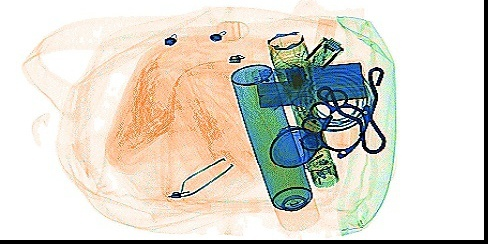powerbank: (251, 59, 367, 109)
pressure: (229, 61, 322, 234)
slingshot: (315, 65, 388, 155)
